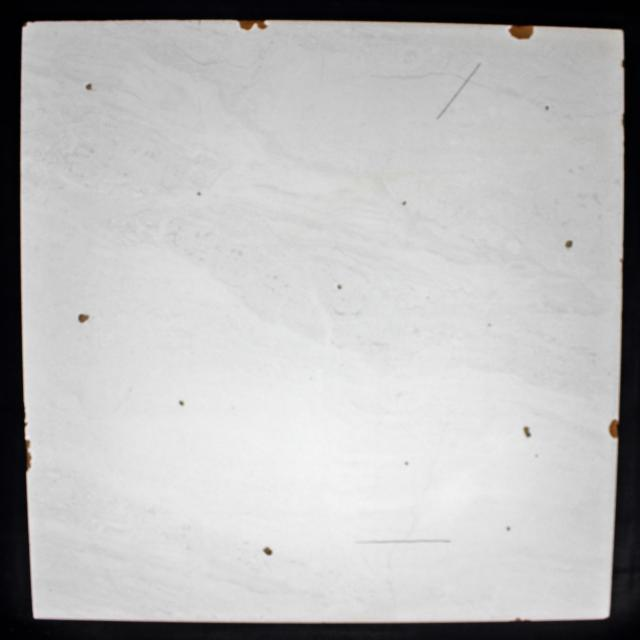edge-chipping: (508, 24, 536, 40), (24, 437, 34, 474), (608, 418, 620, 440), (238, 19, 255, 31), (256, 19, 269, 31)
hole: (77, 312, 91, 324), (522, 426, 532, 438), (564, 239, 574, 249), (262, 546, 272, 556), (84, 82, 93, 92), (178, 399, 185, 407), (400, 200, 408, 207), (195, 190, 203, 197), (336, 283, 342, 291), (505, 526, 512, 532), (544, 105, 550, 112), (404, 461, 411, 466)
line: (436, 61, 483, 120), (357, 538, 454, 546)
